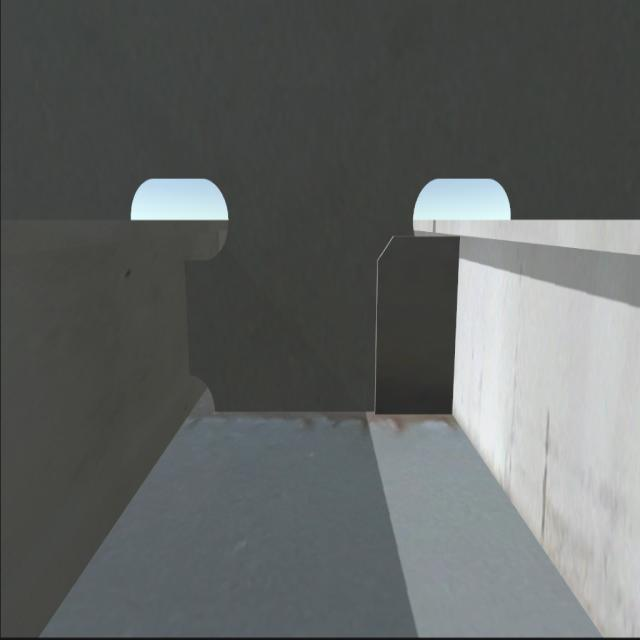fillet_hole: (184, 369, 218, 418)
fillet_yong_jeop_jang: (204, 399, 458, 425)
longi_yong_jeop_jang: (447, 232, 471, 418), (179, 258, 196, 380)
plate_CP03: (372, 231, 453, 412)
